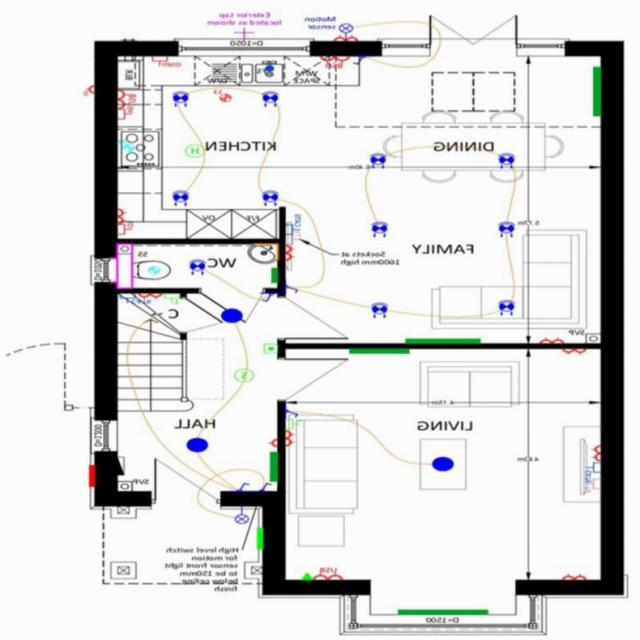BT Entry Point: (304, 572, 313, 579)
Cat 6 Data Socket: (120, 292, 152, 303), (287, 213, 302, 233), (587, 462, 601, 482)
Ceiling Mounted Continuous Extract FanWith Boost Mode Activated By Light Switch: (150, 265, 161, 273)
Ceiling Mounted Continuous Extract FanWith Local Boost Switch: (215, 89, 232, 101)
Co-Ax TV Socket: (586, 478, 602, 492), (287, 230, 301, 243)
Double Socket: (138, 292, 163, 299), (541, 336, 565, 343), (118, 208, 128, 224), (286, 244, 296, 260), (592, 445, 602, 460), (335, 34, 359, 40), (287, 430, 296, 446), (563, 348, 587, 354), (564, 573, 587, 579)
Electric Meter Box: (90, 464, 96, 486)
External Wall Light: (236, 506, 250, 524), (339, 23, 354, 39)
Gas Meter Box: (258, 526, 264, 548)
Grid Switch: (153, 56, 182, 66)
Hob Switch: (118, 105, 134, 118)
Light Switch: (262, 292, 276, 302), (287, 284, 299, 294), (287, 408, 299, 417), (354, 56, 366, 64), (262, 481, 272, 490), (239, 482, 250, 490)
Low Energy Downlighter: (173, 90, 190, 107), (499, 220, 516, 237), (370, 152, 388, 168), (262, 190, 280, 206), (499, 152, 516, 168), (190, 258, 207, 274), (499, 299, 516, 315), (372, 221, 389, 237), (373, 302, 389, 318), (173, 190, 190, 205), (264, 91, 280, 106)
Low Energy Pendant Light: (432, 456, 454, 471), (222, 308, 243, 322), (187, 437, 208, 451)
Mains Wired Smoke Detector: (236, 368, 255, 381)
Outside Socket: (84, 84, 96, 96)
Outside Tap: (234, 26, 255, 40)
Oven Switch: (118, 220, 134, 234)
Programmable Room Thermostat: (265, 343, 279, 352)
Radiator: (398, 609, 488, 614), (594, 66, 602, 116), (407, 338, 481, 343), (350, 348, 410, 352), (270, 452, 278, 481), (272, 267, 279, 282)
Recirculating Extractor Fan: (120, 138, 135, 150)
Single Socket: (270, 438, 278, 446)
Telephone Socket: (164, 292, 180, 304), (287, 417, 302, 429)
USB Double Socket: (314, 566, 345, 580), (321, 55, 351, 68), (118, 88, 137, 108)
Water Entry Position: (266, 65, 274, 71)
